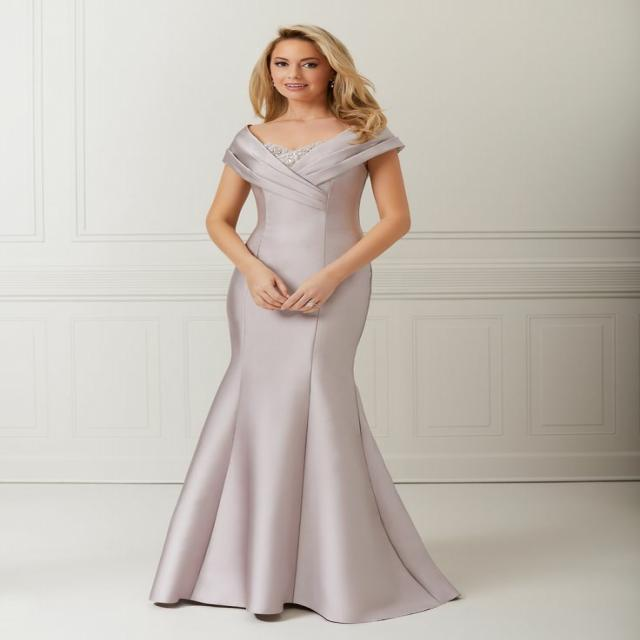female-dress: (151, 121, 464, 622)
